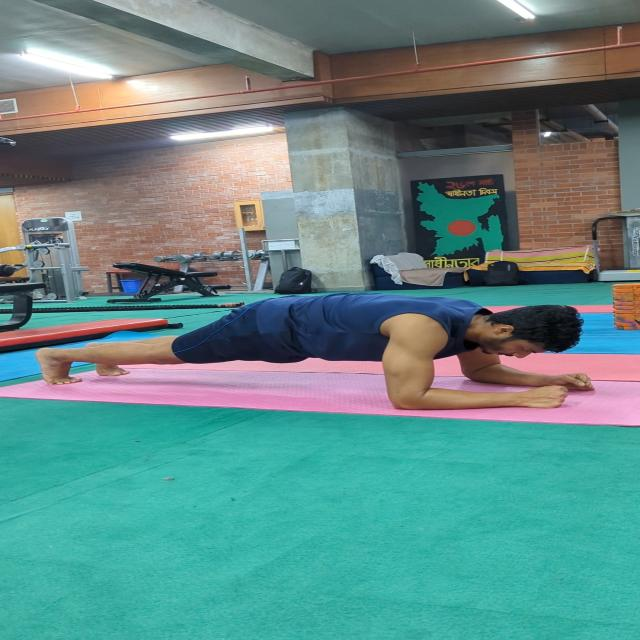Normal_Plunk: (30, 279, 612, 428)
